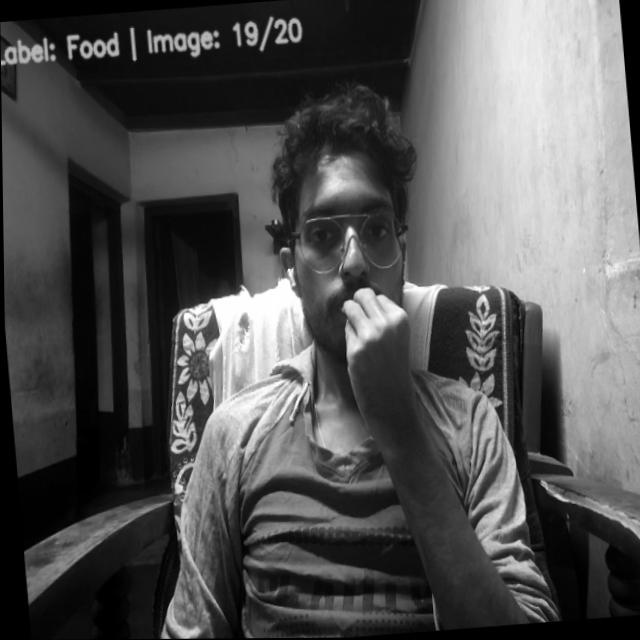Food: (336, 284, 423, 418)
